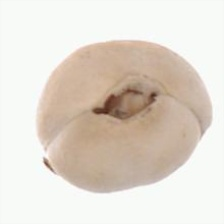L3: (92, 74, 163, 127)
L4: (35, 39, 213, 193)
